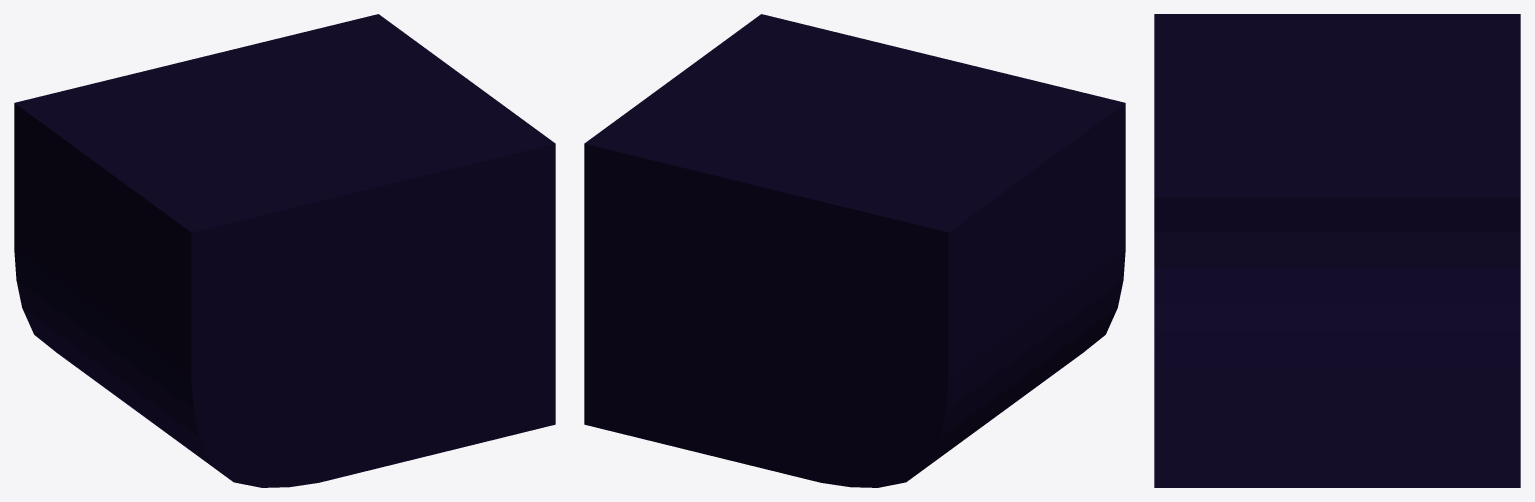
File: Scenary.fbx
3 views of the same model, side by side, from view 1: azimuth 30°, elevation 25°; view 2: azimuth 150°, elevation 25°; view 3: azimuth 270°, elevation 25° (orthographic). The views are drawn at different scales.
Parts seen in each view (by area): view 1: Scenary_surface; view 2: Scenary_surface; view 3: Scenary_surface.
Boxes of the visible parts, box(x1,y1,x2,y2) form: Scenary_surface: box(14, 14, 555, 487); Scenary_surface: box(584, 14, 1125, 487); Scenary_surface: box(1154, 14, 1520, 487).
Size of the model in its own units: 950 by 701 by 800.
